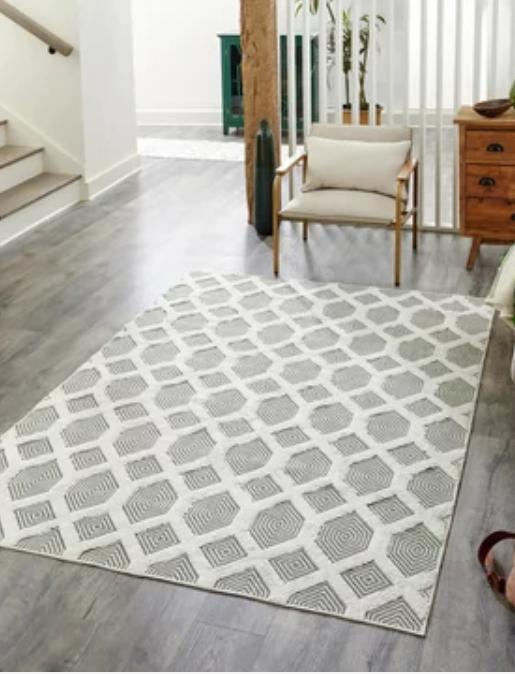carpet: (0, 212, 496, 636)
